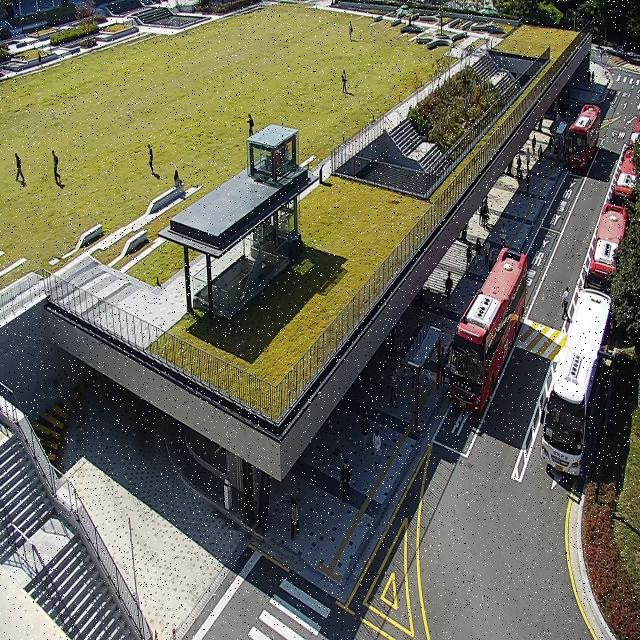queue: (414, 329, 444, 439)
